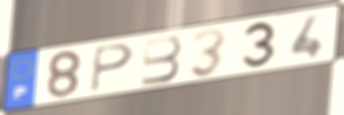3: (188, 26, 233, 79), (238, 18, 280, 72)
4: (287, 12, 325, 61)
8: (46, 49, 82, 101)
B: (139, 34, 184, 88)
P: (89, 42, 136, 95)
